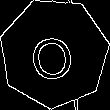O_N: (29, 24, 79, 82)
